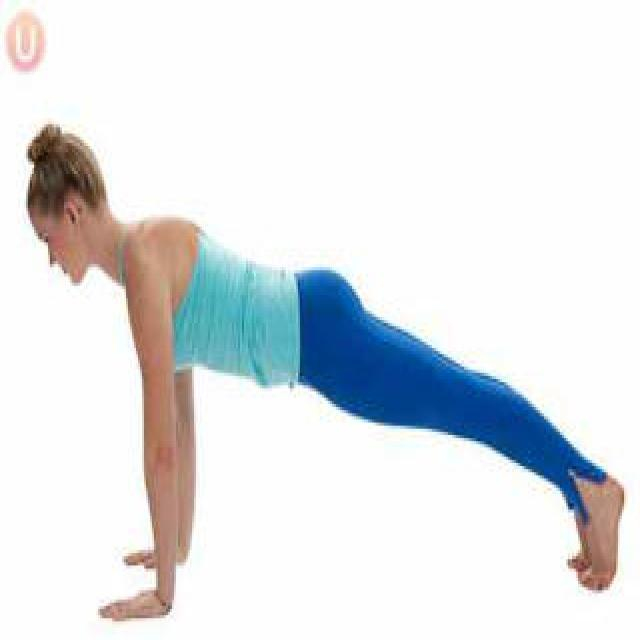yoga-pose plank: (21, 122, 624, 608)
